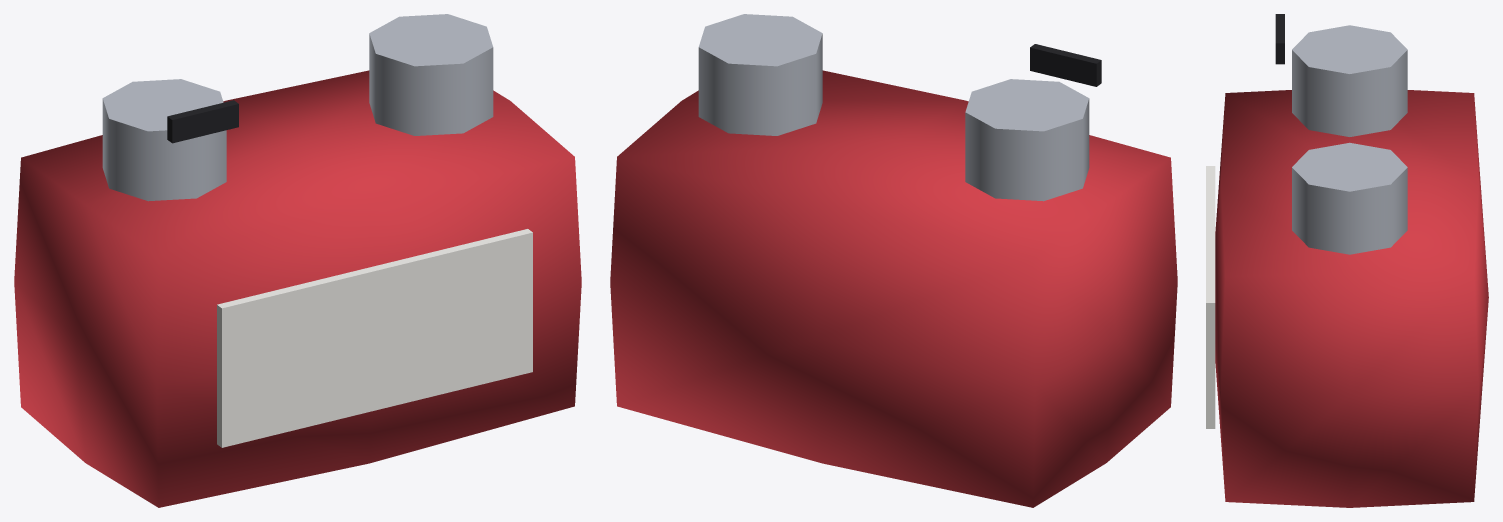
Rendered from battery.glb.
3 views of the same model, side by side, from view 1: azimuth 30°, elevation 25°; view 2: azimuth 150°, elevation 25°; view 3: azimuth 270°, elevation 25° (orthographic). The views are drawn at different scales.
Parts seen in each view (by area): view 1: root; view 2: root; view 3: root.
Part boxes in pixels (left/top/right/bottom): root: left=14, top=14, right=581, bottom=507; root: left=610, top=14, right=1177, bottom=507; root: left=1206, top=14, right=1488, bottom=507.
Size of the model in its own units: 0.2 by 0.16 by 0.122.
